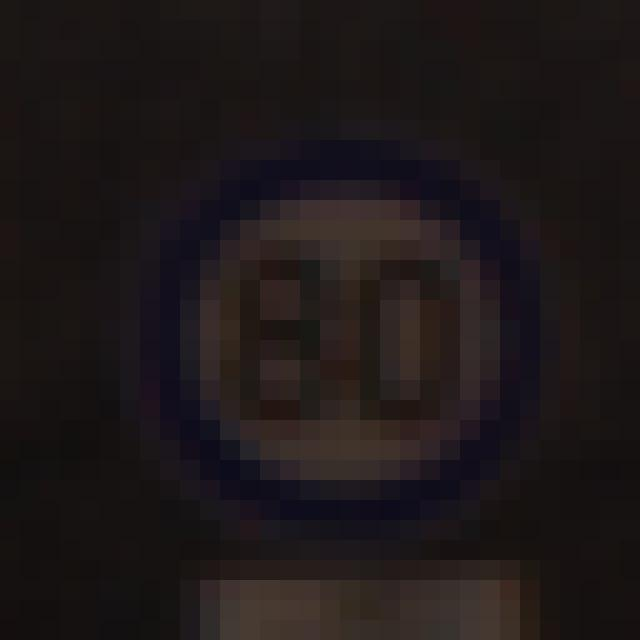SPEED-LIMIT-80: (136, 157, 538, 516)
